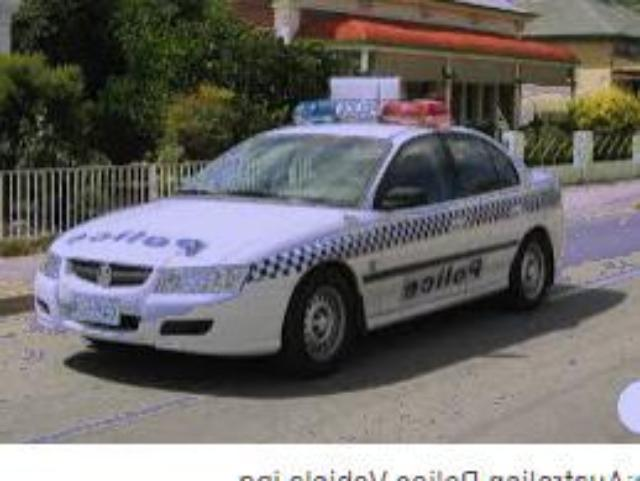police: (32, 99, 566, 378)
